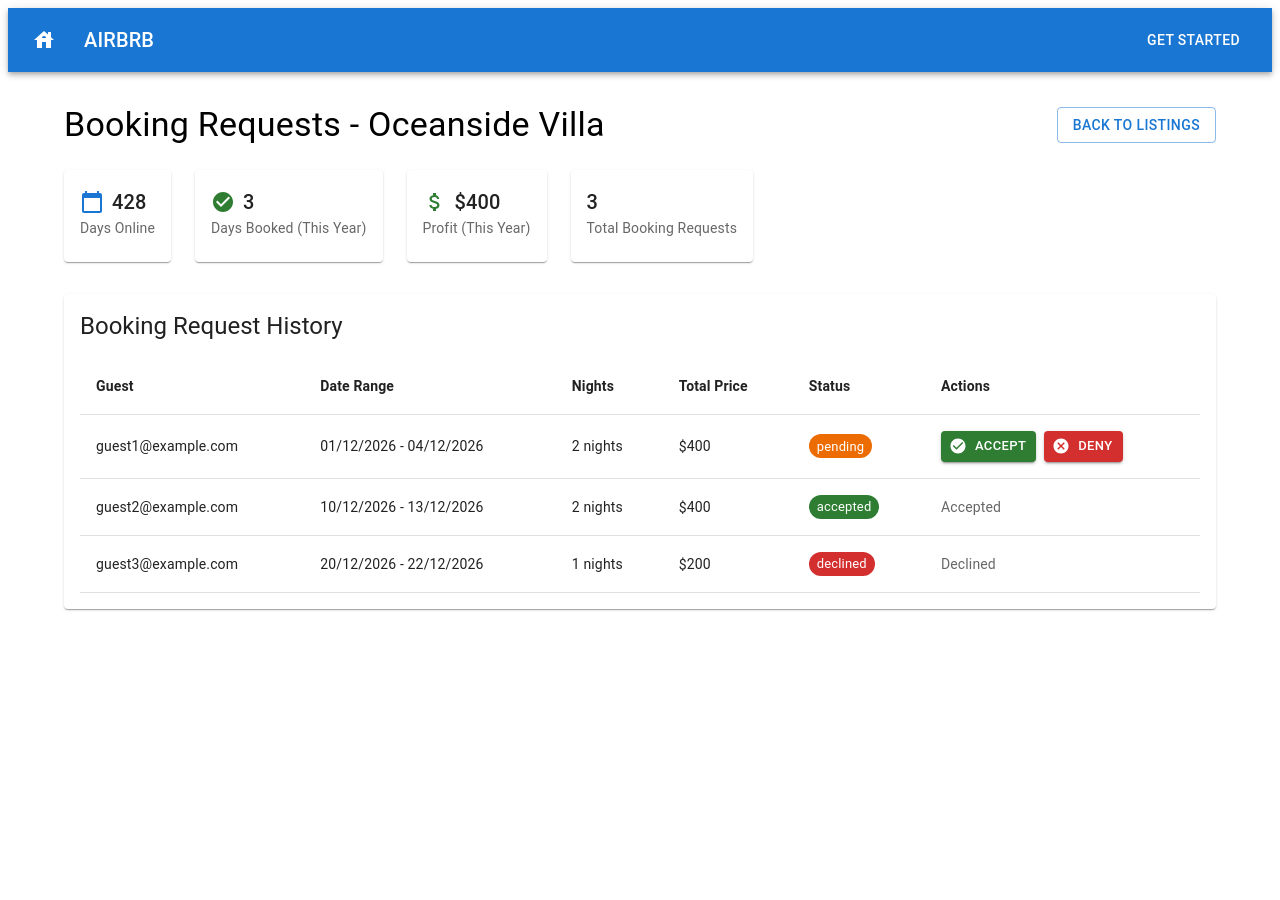
Scenario: BookingRequests › displays success message after declining booking
This screenshot has width=1280, height=900.
Click the button "Deny": (1083, 446) [1044, 431, 1122, 462]
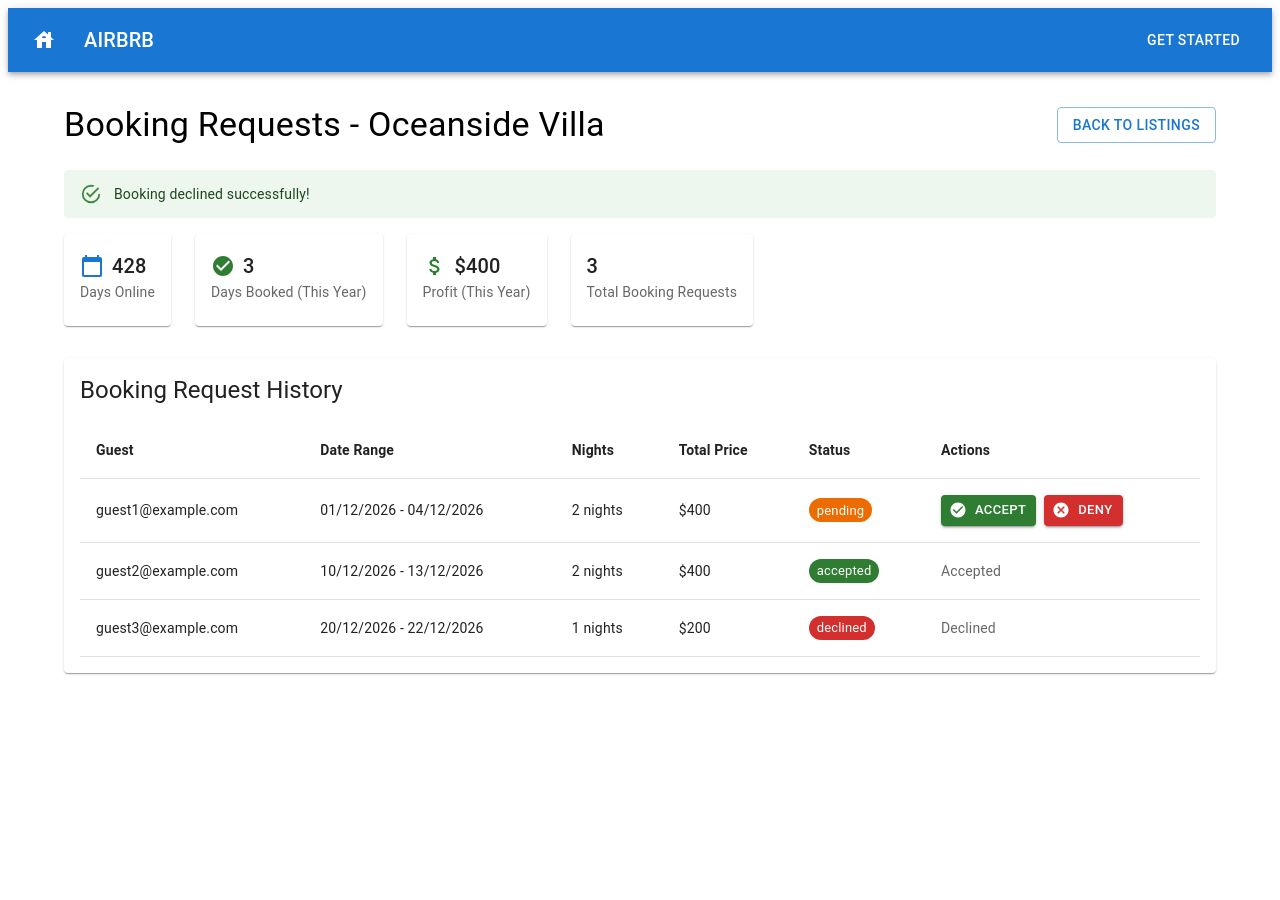
Expected: the text "Booking declined successfully!" is shown, [114, 186, 310, 202]
